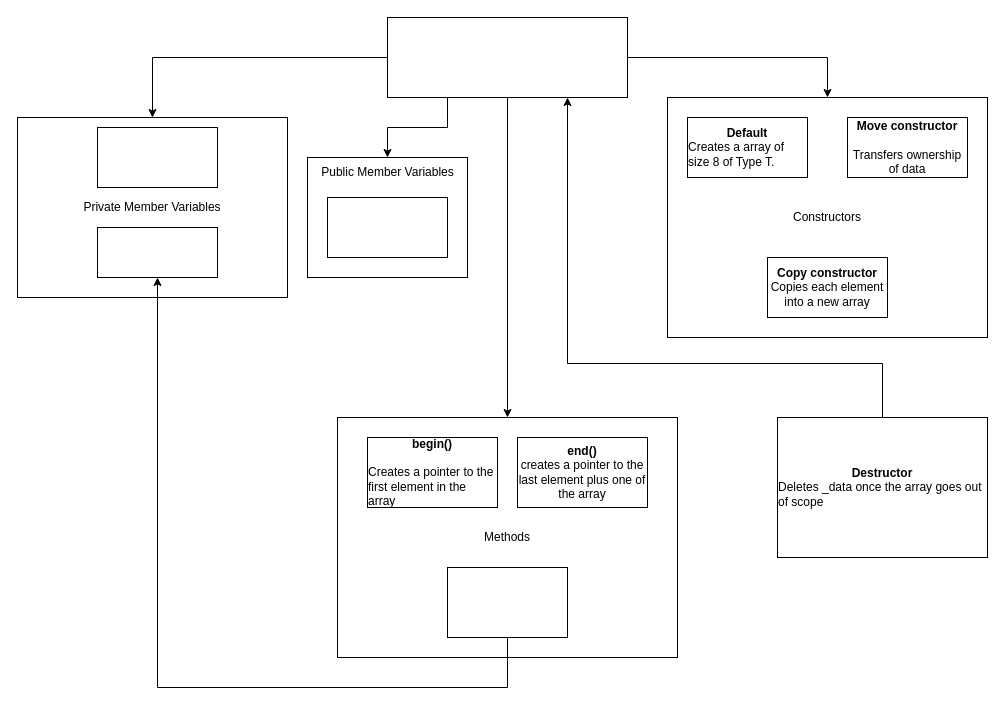
The diagram is 1005 pixels wide and 713 high, and some of its shapes have lost their labels. Each missing label, with the centre of its shape:
"_data Pointer to data of type T" goes at [157,252].
"_size Number of elements in the array" goes at [157,157].
"FSArray Class" goes at [507,57].
"operator[] Accesses _data with checks" goes at [507,602].
"Type T Type of the data in the array" goes at [387,227].
